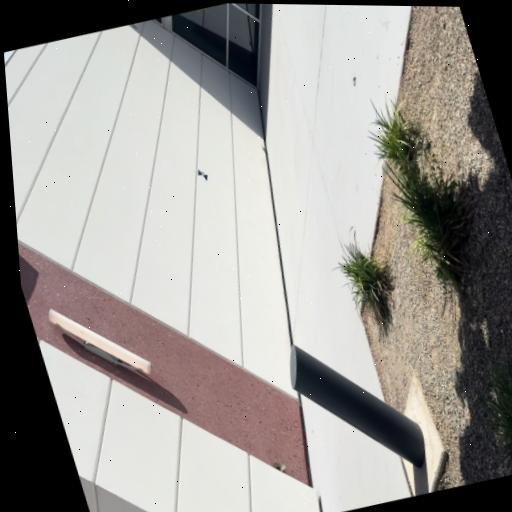target4: (198, 169, 208, 182)
